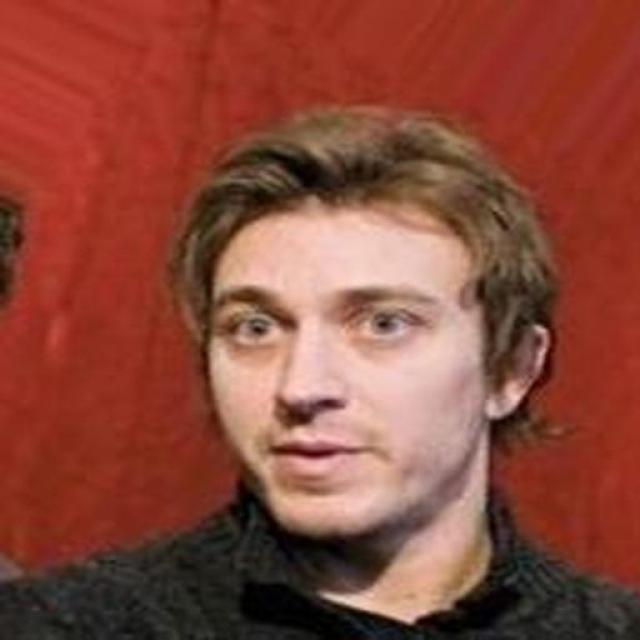bareface: (215, 182, 510, 527)
